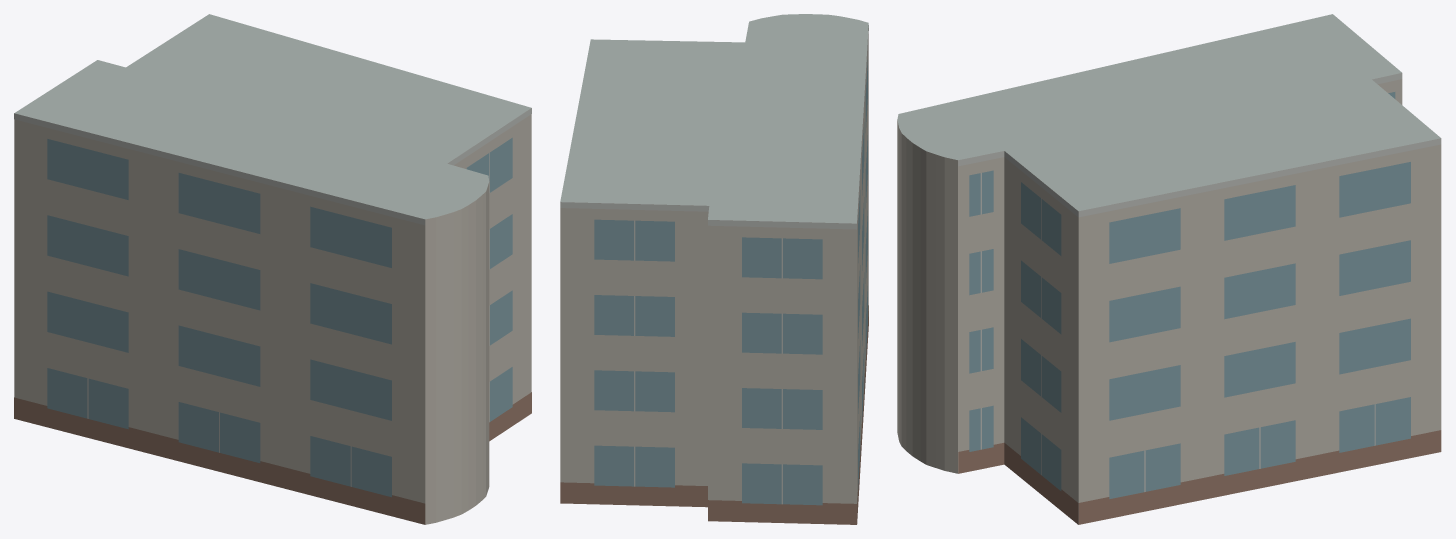
File: survey-upis-32495702.glb
3 renders of one model, left to right at view 1: azimuth 30°, elevation 25°; view 2: azimuth 150°, elevation 25°; view 3: azimuth 270°, elevation 25°, orthographic. The views are drawn at different scales.
Visible parts, largest first — view 1: survey-upis-32495702.tmp; view 2: survey-upis-32495702.tmp; view 3: survey-upis-32495702.tmp.
Boxes of the visible parts, x1=… form: survey-upis-32495702.tmp: x1=14, y1=14, x2=531, y2=524; survey-upis-32495702.tmp: x1=560, y1=14, x2=868, y2=524; survey-upis-32495702.tmp: x1=897, y1=14, x2=1441, y2=524.
Size of the model in its own units: 16.75 by 12.41 by 19.52.
